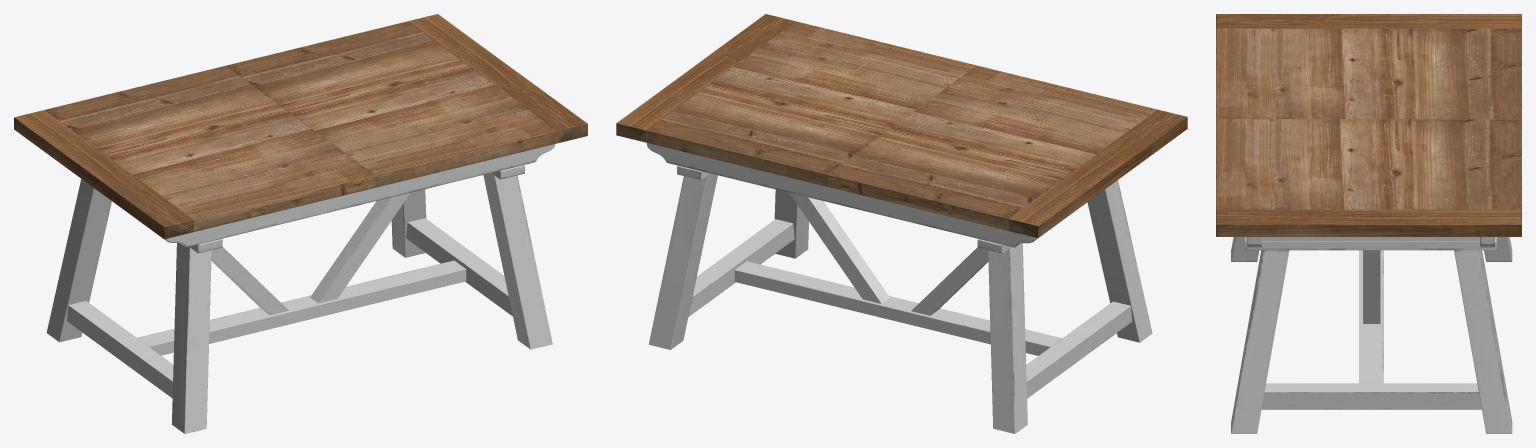
The model's file is abo-B07B82PXCM.glb.
3 views of the same model, side by side, from view 1: azimuth 30°, elevation 25°; view 2: azimuth 150°, elevation 25°; view 3: azimuth 270°, elevation 25° (orthographic). The views are drawn at different scales.
Bounding box in the file's own units: 1.5 × 0.743 × 0.922.
Materials: 1 (1 with a texture image).
